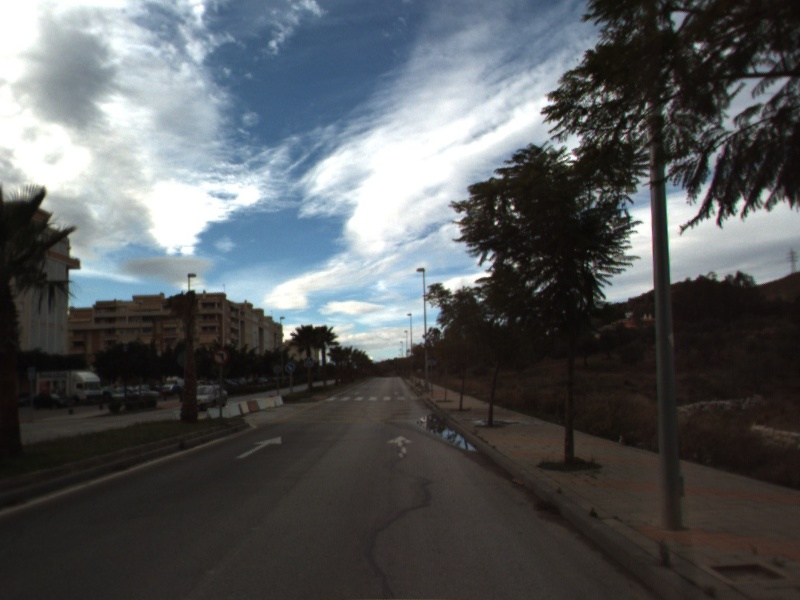STRAIGHT: (233, 434, 284, 460), (384, 433, 415, 461)
